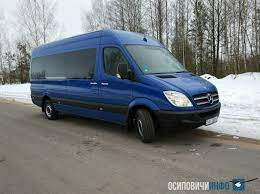van: (31, 31, 220, 141)
